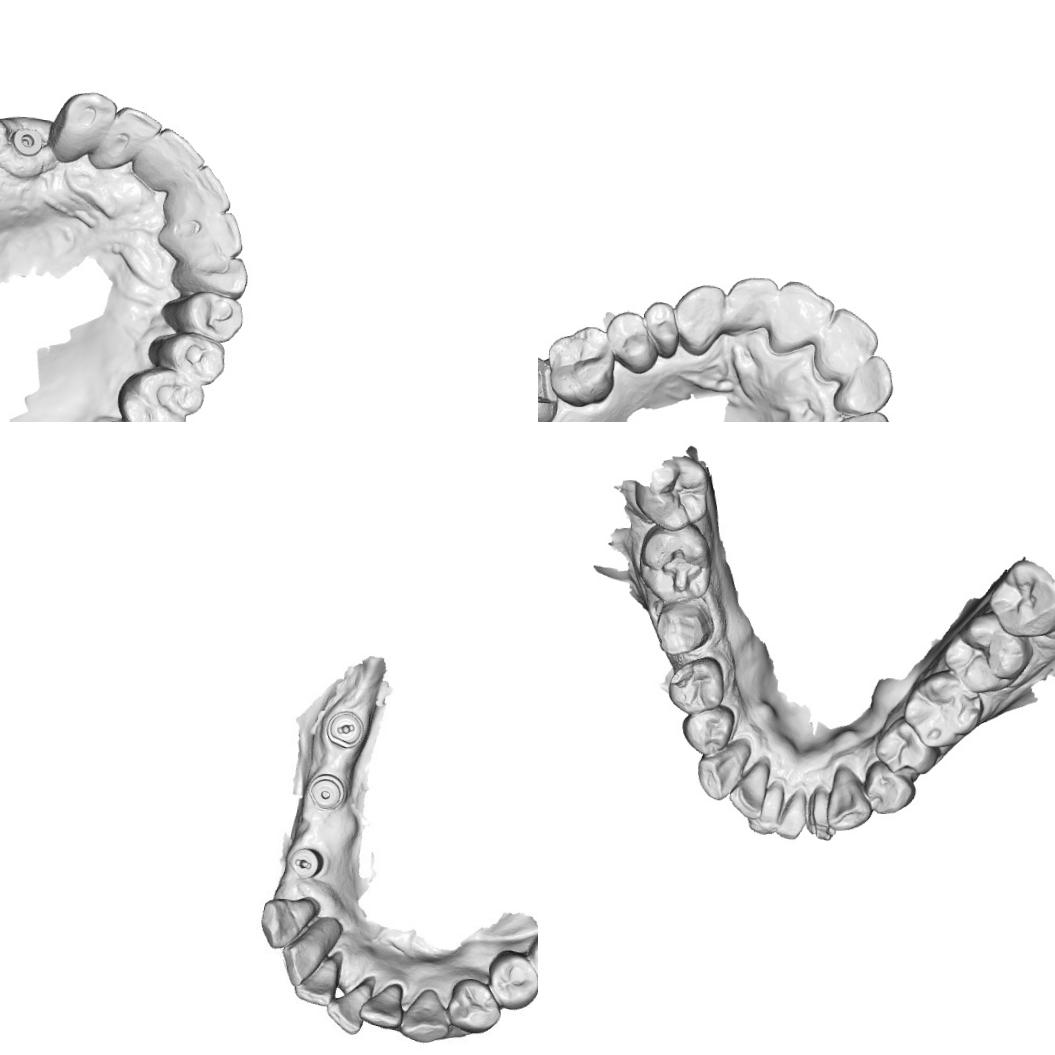canine: (44, 88, 116, 166), (670, 280, 727, 360), (168, 250, 252, 301), (693, 736, 752, 802), (824, 762, 875, 832), (257, 895, 321, 950), (400, 988, 454, 1046), (823, 407, 892, 422)
crown: (651, 594, 717, 658)
implant: (9, 124, 45, 160), (310, 773, 344, 809)
implant_minus: (326, 708, 365, 752), (288, 847, 324, 878)
incisor: (767, 279, 835, 357), (812, 305, 880, 382), (830, 352, 896, 418), (182, 209, 248, 267), (145, 124, 208, 180), (280, 924, 334, 989), (724, 272, 776, 334), (106, 102, 164, 155), (180, 162, 236, 215), (726, 758, 772, 821), (292, 952, 338, 1006), (360, 978, 404, 1032), (323, 980, 367, 1034), (746, 778, 786, 836), (774, 784, 808, 842), (803, 782, 835, 842)
inlay: (656, 542, 706, 596)
molar: (939, 609, 1036, 698), (900, 667, 986, 751), (542, 321, 620, 409), (630, 454, 712, 534), (984, 556, 1055, 640), (113, 362, 208, 422), (538, 350, 562, 422)
premolar: (872, 712, 940, 776), (170, 286, 245, 344), (156, 328, 227, 387), (664, 653, 728, 716), (603, 308, 661, 376), (444, 972, 501, 1034), (860, 758, 918, 817), (485, 950, 538, 1012), (679, 702, 736, 756), (640, 296, 681, 360)
